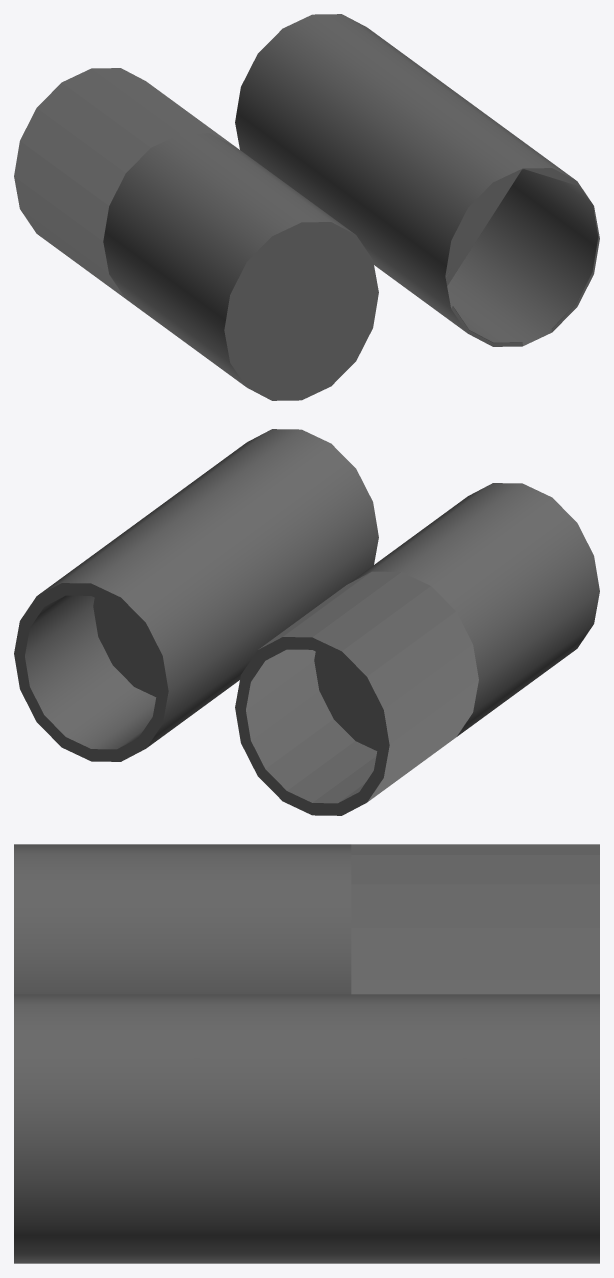
The model's file is 3_Thruster.fbx.
3 views of the same model, one above another, from view 1: azimuth 30°, elevation 25°; view 2: azimuth 150°, elevation 25°; view 3: azimuth 270°, elevation 25° (orthographic). The views are drawn at different scales.
Parts seen in each view (by area): view 1: 3_Thruster; view 2: 3_Thruster; view 3: 3_Thruster.
Part boxes in pixels (x1,y1,x2,y2): 3_Thruster: (14,14,599,400); 3_Thruster: (14,429,599,815); 3_Thruster: (14,844,599,1263).
Size of the model in its own units: 0.4666 by 0.2113 by 0.4525.
